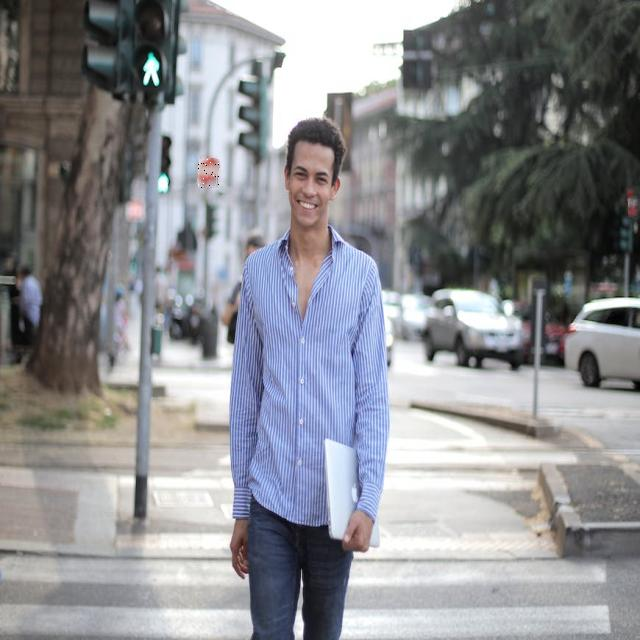no entry: (198, 158, 219, 188), (627, 187, 640, 218)
